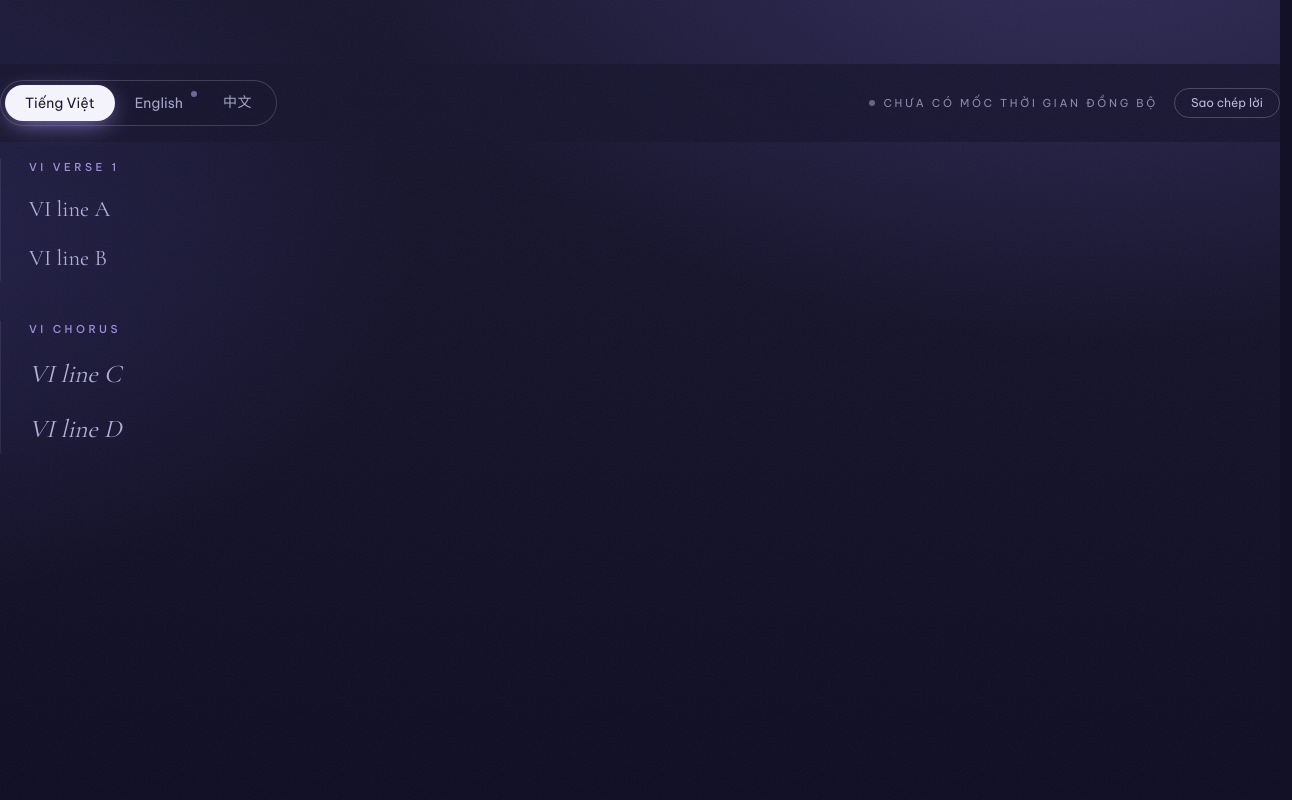
Test: LyricsViewer language switching › shows a clear unavailable state for a missing translation while the selector keeps working
The width and height of the screenshot is (1292, 800).
Click the radio button labelled "English": click(159, 103) [115,85,203,121]
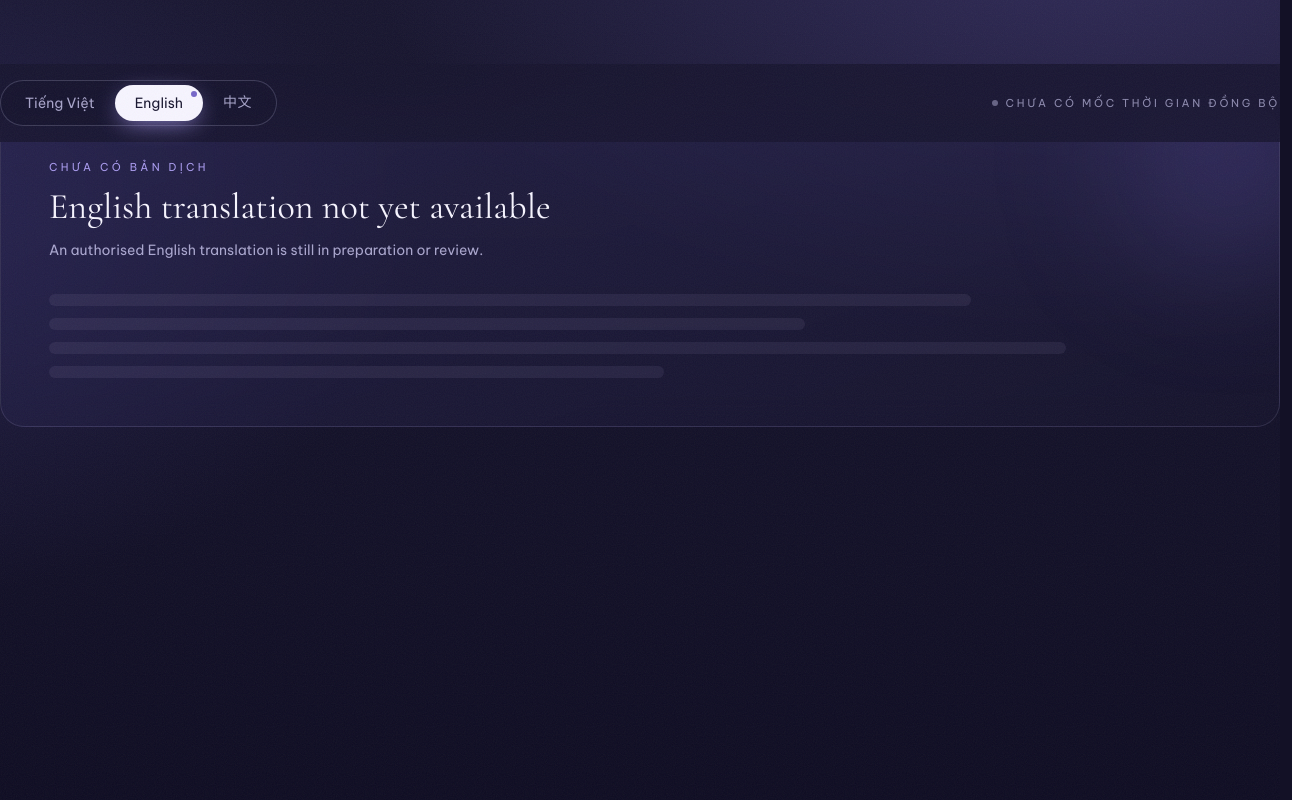
Click the radio button labelled "中文": click(237, 103) [203,85,272,121]
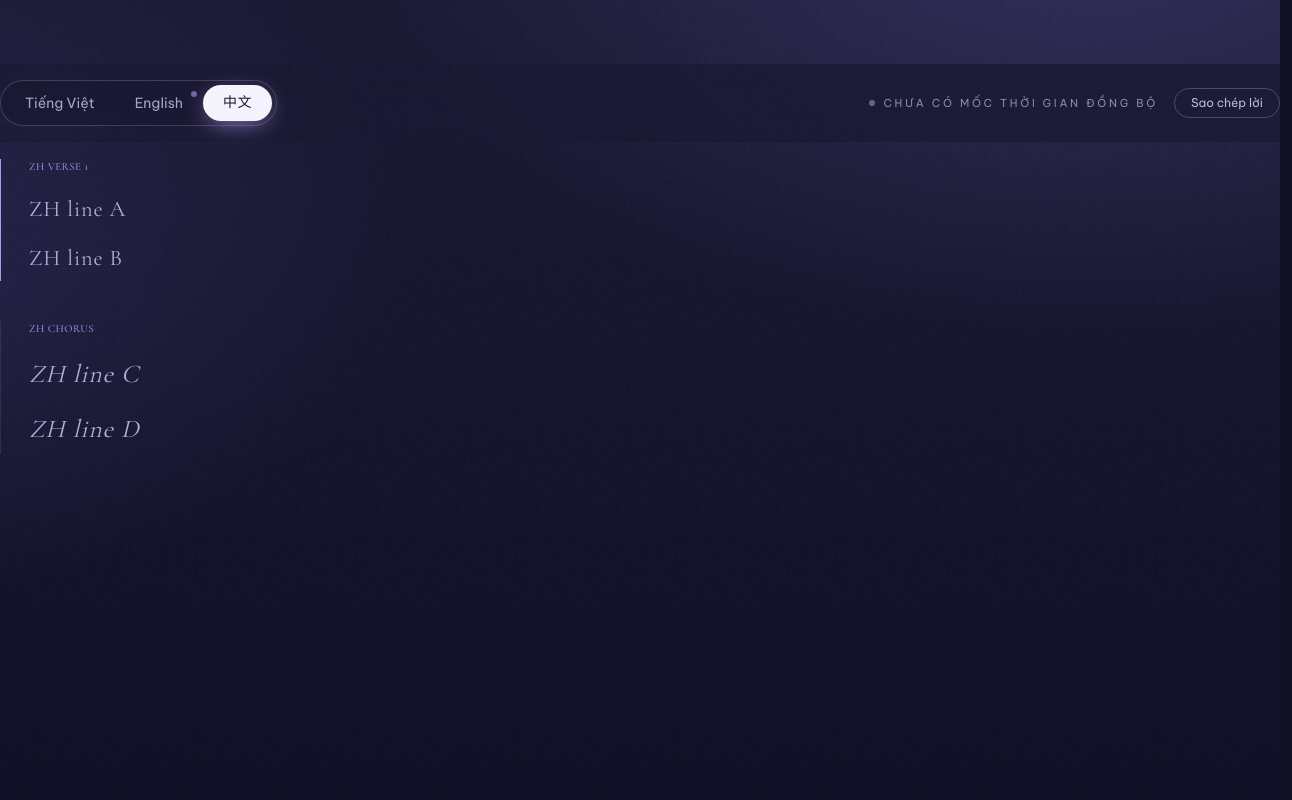
Check: the message with test id "lyrics-unavailable" is gone
